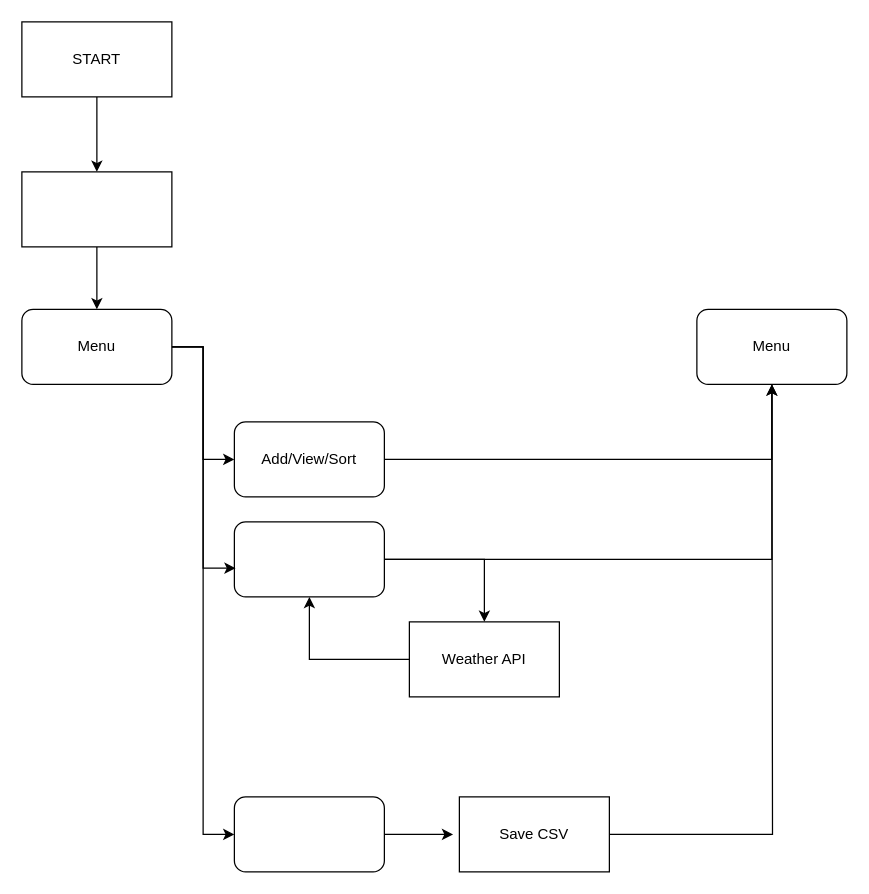
This 869x894 diagram has some shape labels left out. Each missing label, with the box of its shape:
Exit: (233, 796, 384, 872)
load CSV: (21, 171, 172, 247)
Reccomend: (233, 521, 384, 597)
